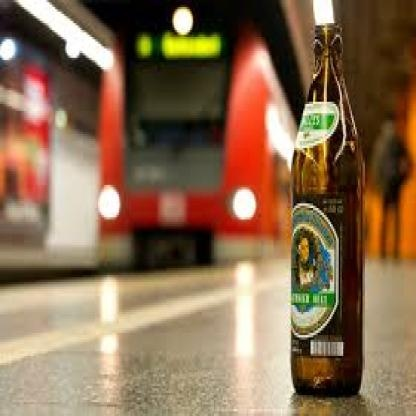trash: (291, 10, 362, 395)
